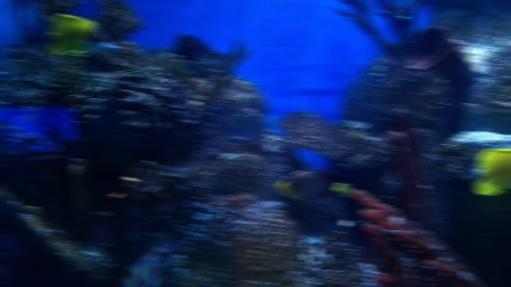Fish: (47, 13, 121, 54), (120, 236, 177, 287), (277, 170, 354, 200), (475, 148, 511, 196), (479, 149, 511, 189)
